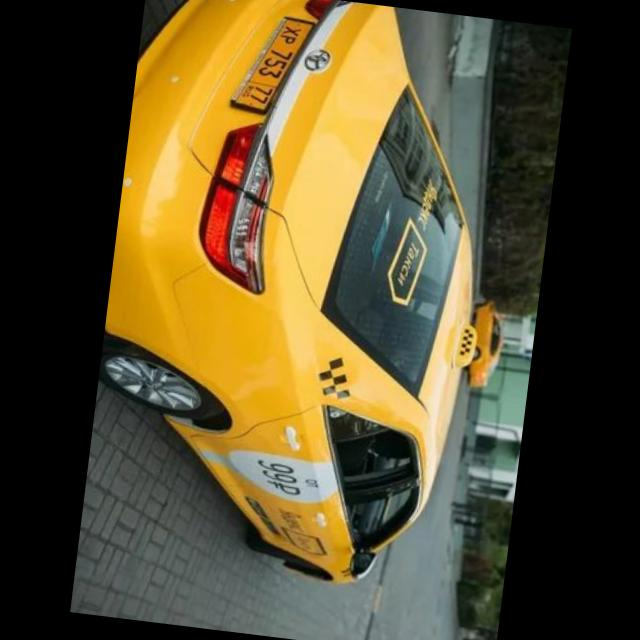taxi: (77, 1, 518, 598), (463, 298, 510, 391)
